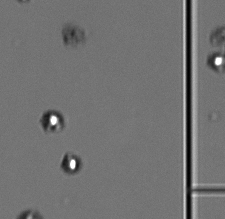Dead Cell: (60, 22, 88, 46)
Living Cell: (39, 109, 66, 133), (60, 150, 82, 174), (208, 50, 223, 70)
